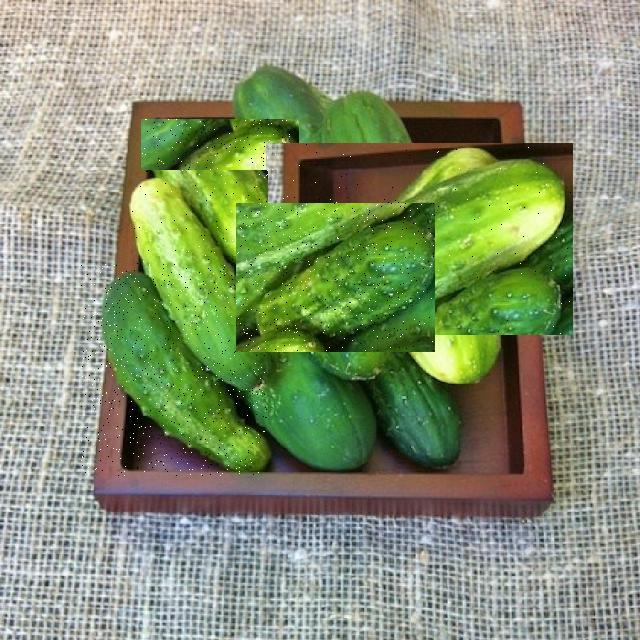Cucumber: (101, 272, 259, 465), (128, 176, 261, 391), (236, 221, 445, 344)
